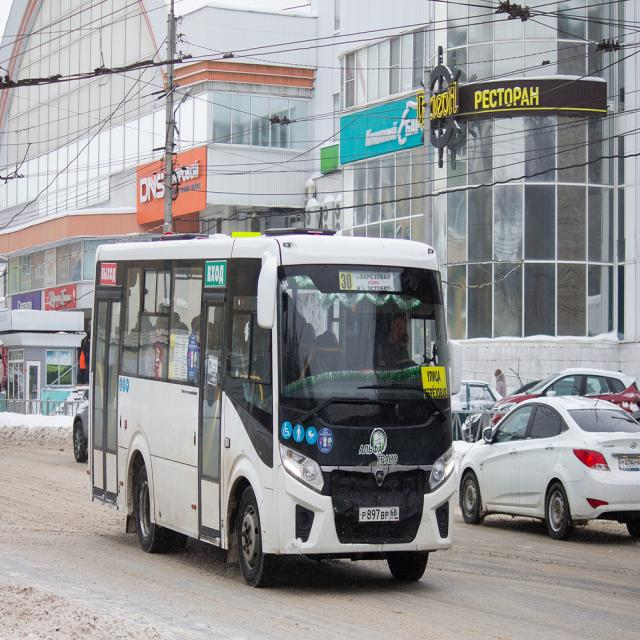number-of-bus: (340, 273, 354, 292)
